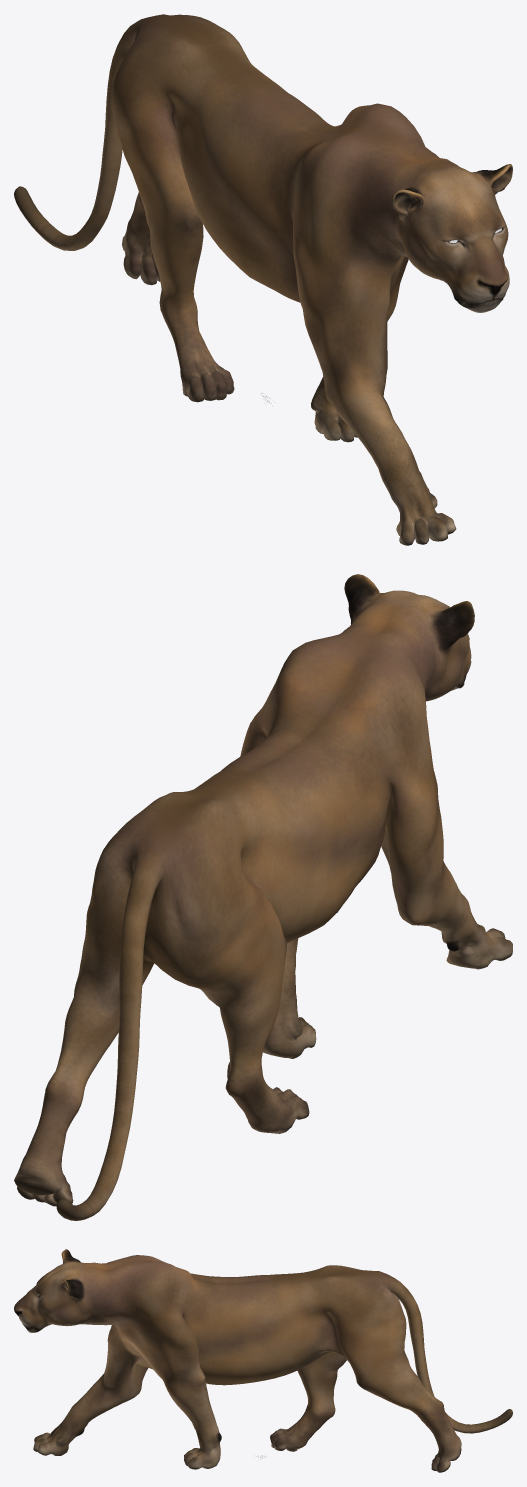
Rendered from lion.glb.
3 renders of one model, top to bottom at view 1: azimuth 30°, elevation 25°; view 2: azimuth 150°, elevation 25°; view 3: azimuth 270°, elevation 25°, orthographic. The views are drawn at different scales.
Parts seen in each view (by area): view 1: lion_rig:bodyShape; view 2: lion_rig:bodyShape; view 3: lion_rig:bodyShape.
Part boxes in pixels (box(x1,y1,x2,y2)): lion_rig:bodyShape: box(14, 14, 512, 545); lion_rig:bodyShape: box(14, 574, 512, 1220); lion_rig:bodyShape: box(14, 1249, 512, 1472).
Bounding box in the file's own units: 1.28 × 2.9 × 6.32.
Materials: 25 (3 with a texture image).
